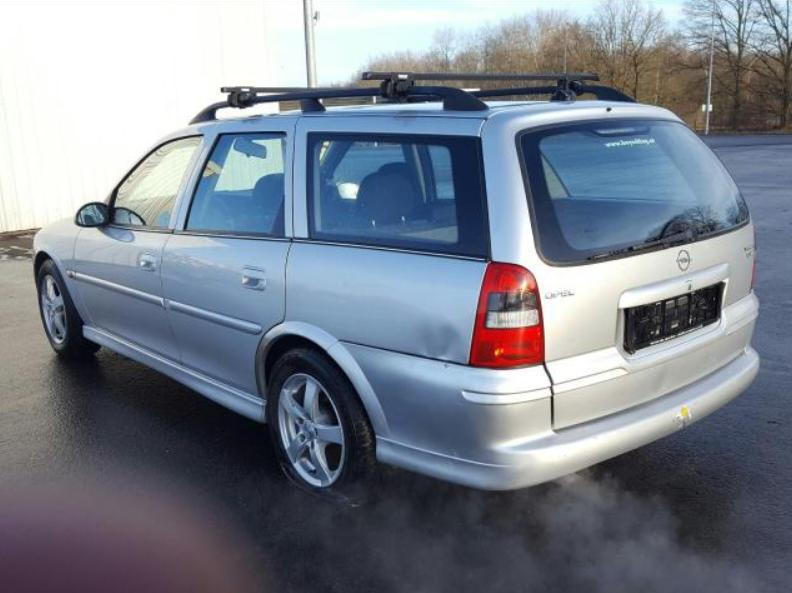Back-bumper: (326, 340, 761, 491)
Back-door: (161, 115, 301, 400)
Back-wheel: (265, 347, 416, 507)
Back-window: (306, 132, 491, 257), (186, 134, 286, 237)
Back-windshield: (521, 120, 749, 261)
Fender: (32, 216, 93, 327)
Front-door: (75, 119, 220, 365)
Front-wheel: (36, 258, 102, 358)
Front-window: (111, 136, 202, 229)
Mirror: (74, 201, 116, 228)
Quarter-panel: (255, 238, 493, 401)
Rocker-panel: (83, 326, 266, 424)
Roof: (219, 100, 563, 119)
Tail-light: (469, 261, 544, 371)
Trunk: (481, 100, 760, 432)
